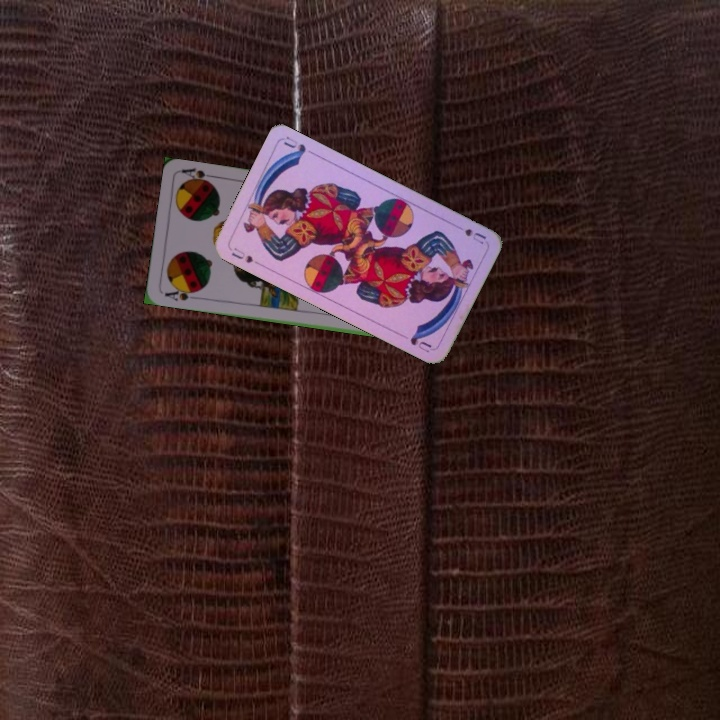SA: (161, 283, 201, 304)
SU: (450, 222, 489, 247), (227, 243, 256, 266)
